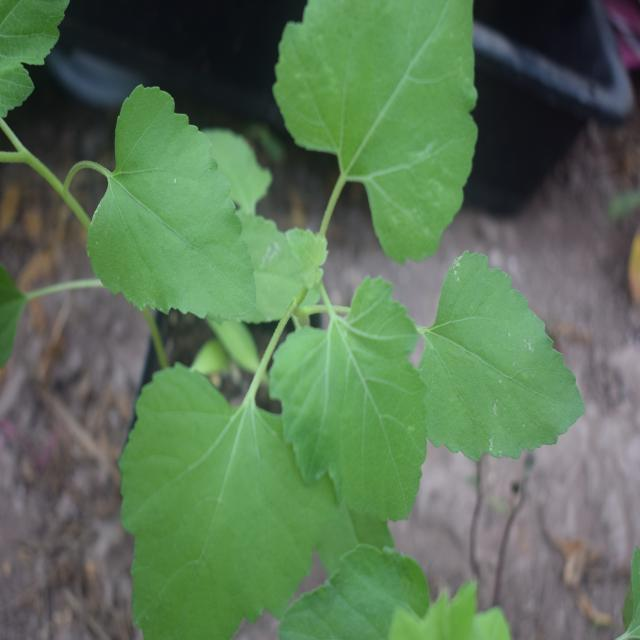cocklebur: (29, 30, 564, 596)
